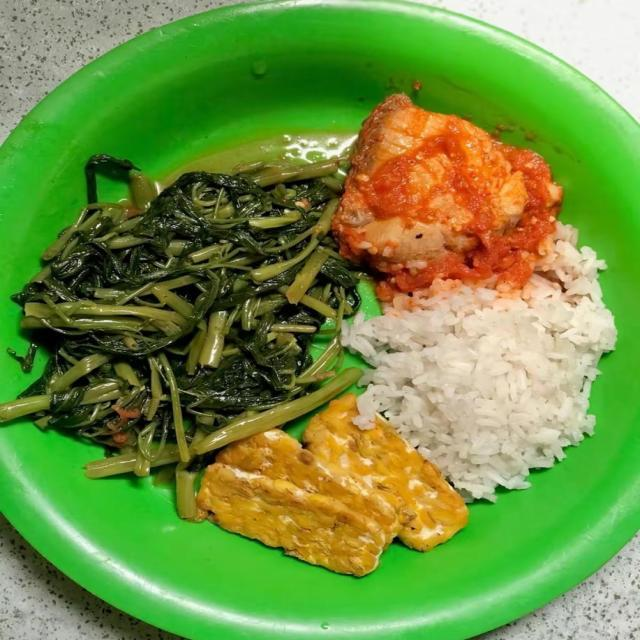Plate: (0, 0, 639, 639)
Rice: (353, 222, 607, 502), (341, 87, 564, 273)
Vegetables: (0, 152, 470, 573)
